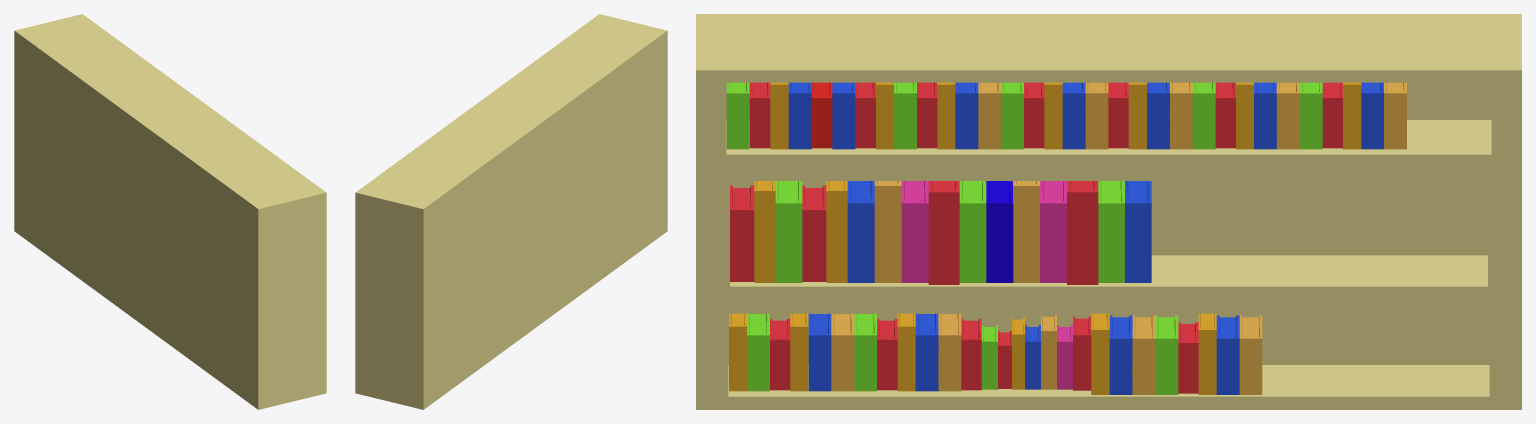
Rendered from shelf_with_color.fbx.
The picture shows the model from 3 angles, left to right: view 1: azimuth 30°, elevation 25°; view 2: azimuth 150°, elevation 25°; view 3: azimuth 270°, elevation 25°; orthographic projection. The views are drawn at different scales.
Visible parts, largest first — view 1: 立方体; view 2: 立方体; view 3: 立方体, 立方体.041, 立方体.044, 立方体.038, 立方体.035, 立方体.034, 立方体.033, 立方体.042, 立方体.045, 立方体.048, 立方体.047, 立方体.046 (+64 smaller).
Part boxes in pixels (x1=…): 立方体: x1=14, y1=14, x2=326, y2=409; 立方体: x1=355, y1=14, x2=667, y2=409; 立方体: x1=696, y1=14, x2=1521, y2=409; 立方体.041: x1=928, y1=181, x2=959, y2=284; 立方体.044: x1=1067, y1=181, x2=1098, y2=284; 立方体.038: x1=775, y1=181, x2=802, y2=282; 立方体.035: x1=847, y1=181, x2=874, y2=282; 立方体.034: x1=874, y1=181, x2=901, y2=282; 立方体.033: x1=901, y1=181, x2=928, y2=282; 立方体.042: x1=959, y1=181, x2=986, y2=282; 立方体.045: x1=986, y1=181, x2=1013, y2=282; 立方体.048: x1=1124, y1=181, x2=1151, y2=282; 立方体.047: x1=1040, y1=181, x2=1066, y2=282; 立方体.046: x1=1013, y1=181, x2=1039, y2=282.
Size of the model in its own units: 142 by 400 by 881.
